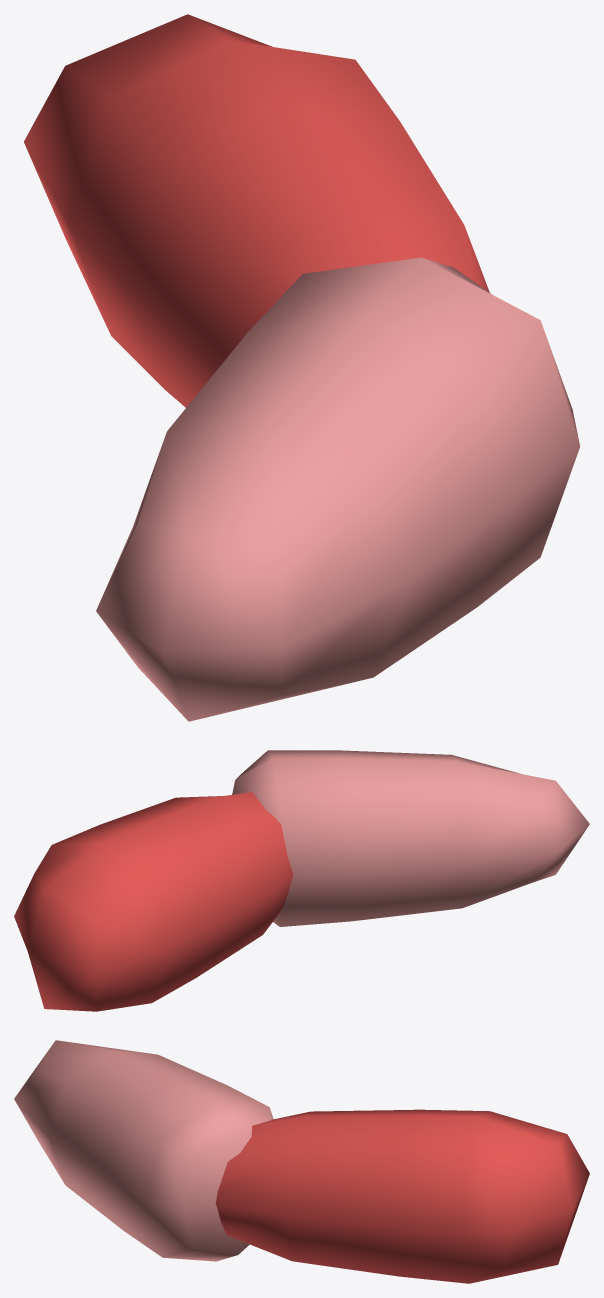
Rendered from Crab_1_Claw_3.fbx.
3 views of the same model, one above another, from view 1: azimuth 30°, elevation 25°; view 2: azimuth 150°, elevation 25°; view 3: azimuth 270°, elevation 25° (orthographic). The views are drawn at different scales.
Visible parts, largest first — view 1: Crab_1_Claw_3; view 2: Crab_1_Claw_3; view 3: Crab_1_Claw_3.
Part boxes in pixels (x1=…): Crab_1_Claw_3: x1=24, y1=14, x2=580, y2=721; Crab_1_Claw_3: x1=14, y1=750, x2=589, y2=1011; Crab_1_Claw_3: x1=14, y1=1040, x2=589, y2=1283.
Size of the model in its own units: 6.82 by 3.15 by 10.17.
